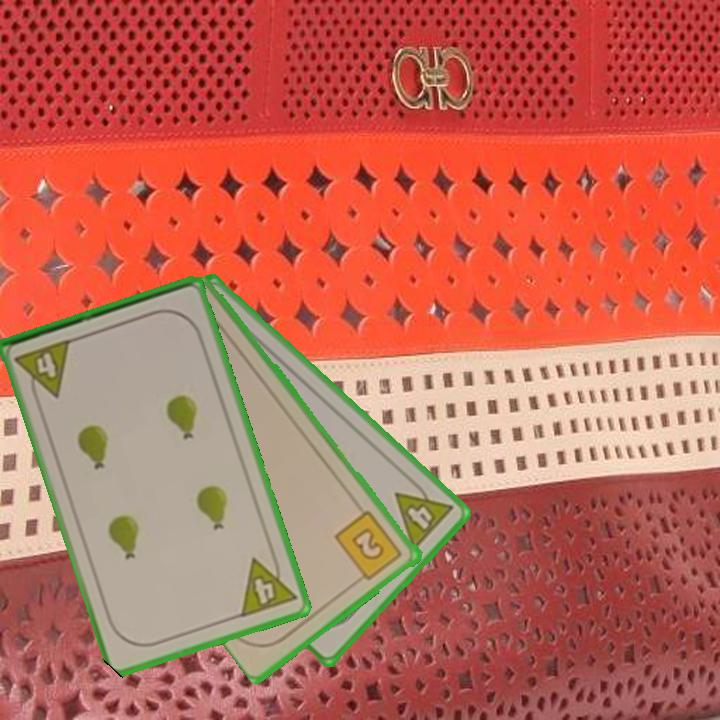2b: (332, 507, 406, 587)
4p: (391, 473, 457, 554), (236, 548, 300, 621), (11, 335, 75, 406)
